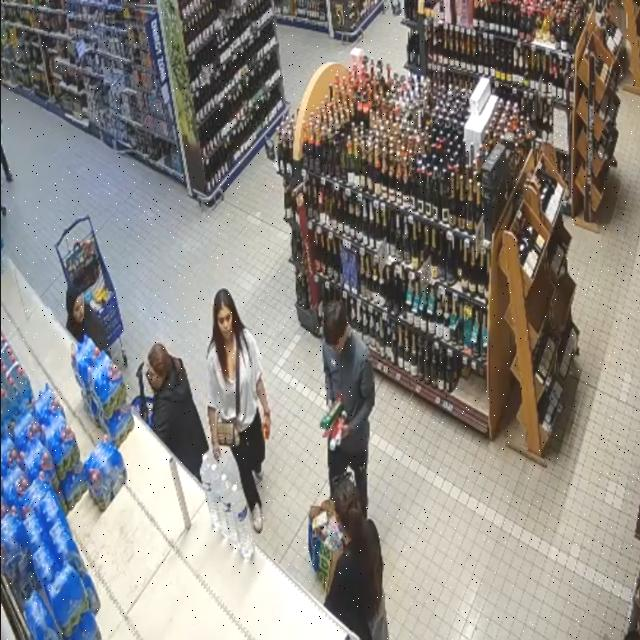article: (319, 400, 342, 429), (335, 410, 347, 446), (322, 413, 339, 438), (330, 421, 338, 452)
bags: (308, 498, 345, 597), (217, 345, 240, 447), (370, 592, 389, 639)
hands: (263, 412, 271, 439), (212, 442, 221, 461), (342, 423, 352, 439)
person: (208, 289, 270, 532), (323, 302, 375, 516), (325, 478, 388, 639), (147, 344, 208, 480), (66, 284, 108, 352)
